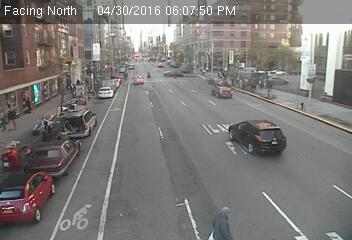neg: (80, 114, 113, 159), (303, 160, 334, 201), (297, 66, 323, 100), (230, 30, 254, 63), (124, 159, 148, 192), (59, 198, 79, 226), (34, 63, 53, 90), (67, 53, 84, 76), (207, 68, 223, 89), (276, 47, 291, 68), (166, 124, 181, 144), (240, 132, 253, 150), (160, 79, 173, 96)
pos: (210, 203, 236, 237), (7, 104, 26, 129)
